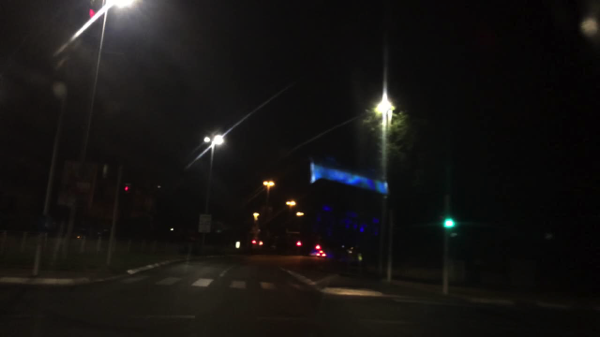car: (316, 250, 328, 260)
traffic light: (445, 220, 454, 231), (296, 241, 303, 249), (250, 239, 257, 246), (315, 245, 321, 251)
traffic sign: (58, 158, 97, 213), (197, 214, 212, 235)
